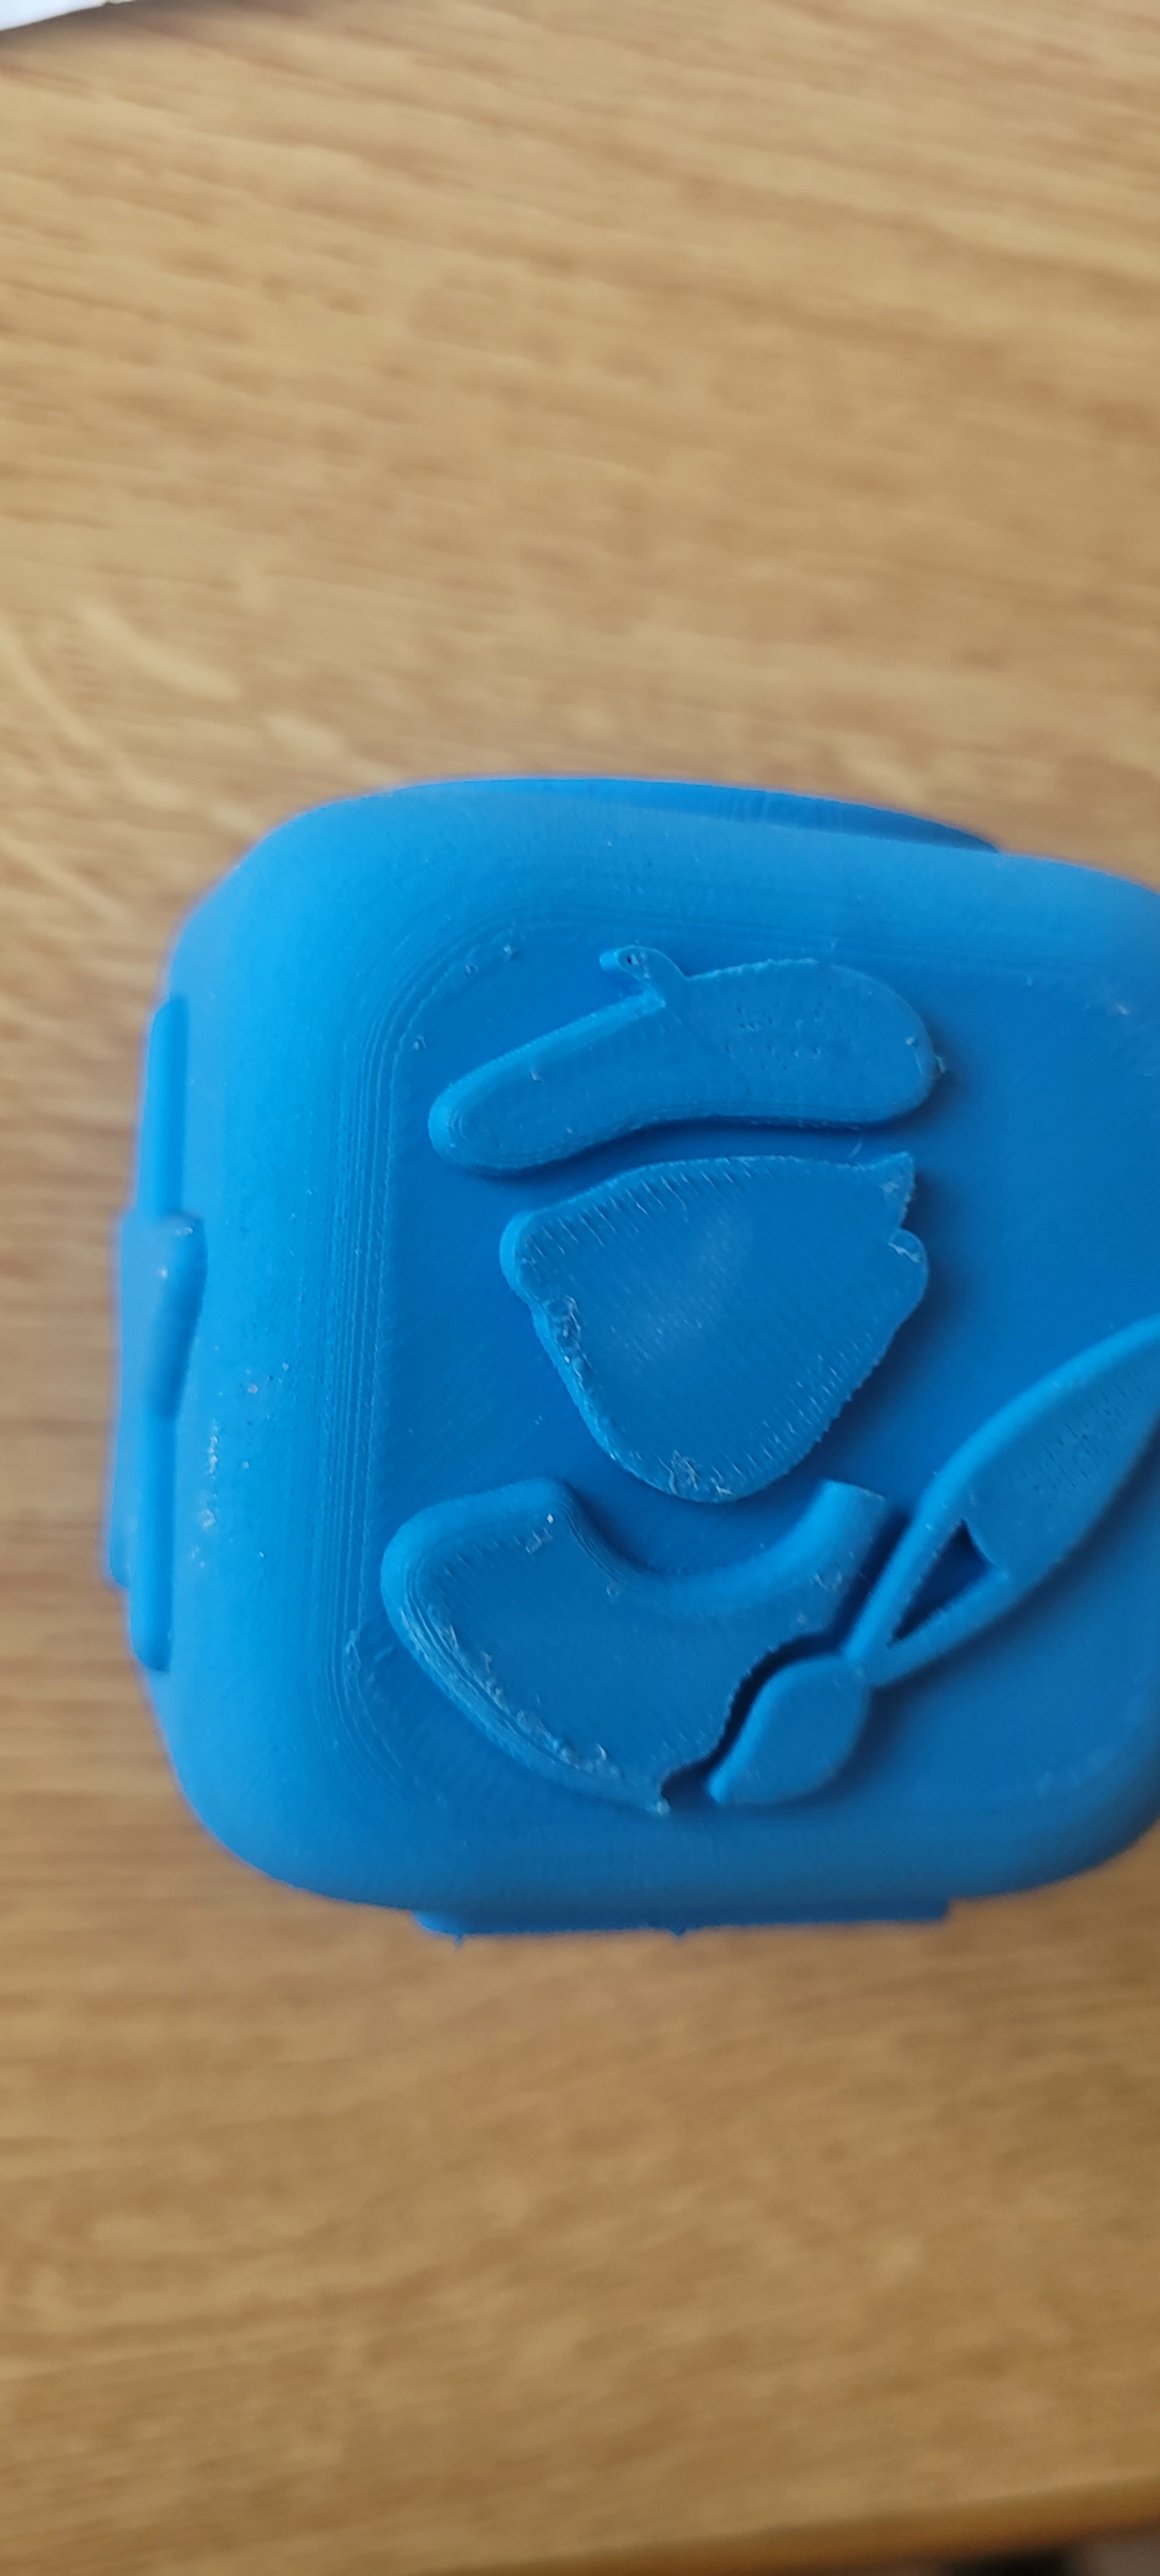Artist_Info: (288, 747, 1160, 1996)
